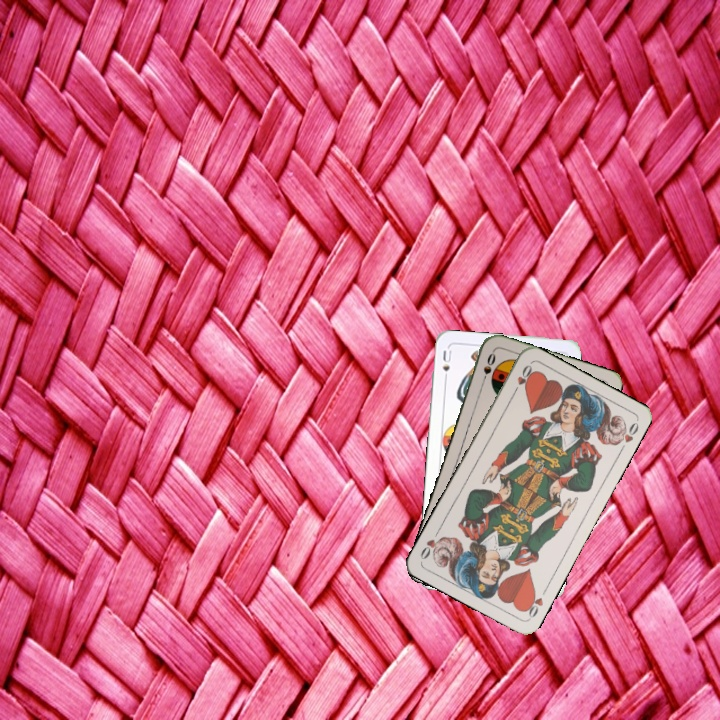HO: (520, 583, 550, 621), (509, 361, 535, 397)
SO: (478, 348, 498, 387)
SU: (438, 346, 454, 385)
